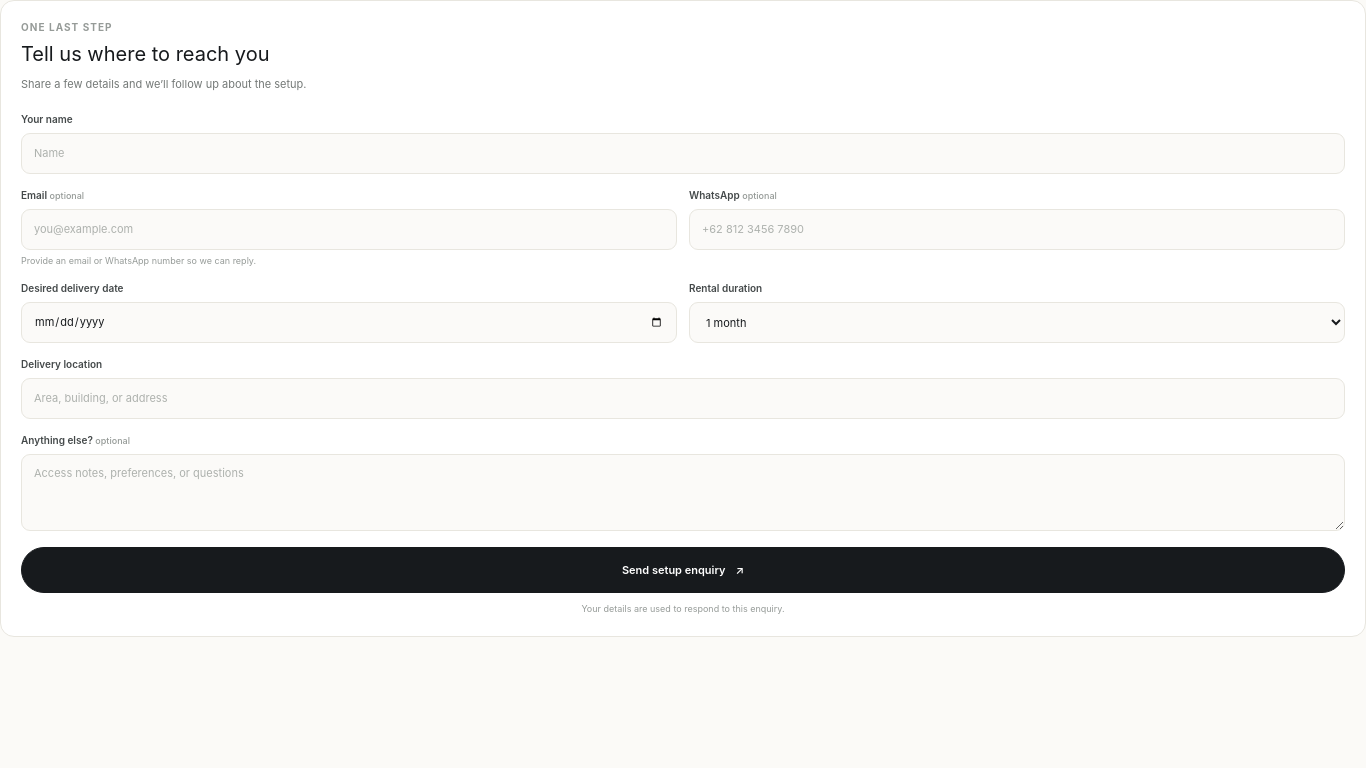
EnquiryForm › requires at least one reply method
Type "Casey Example" into the field labelled "Your name".
click(683, 153); type("Casey Example")  # box [21,132,1345,174]
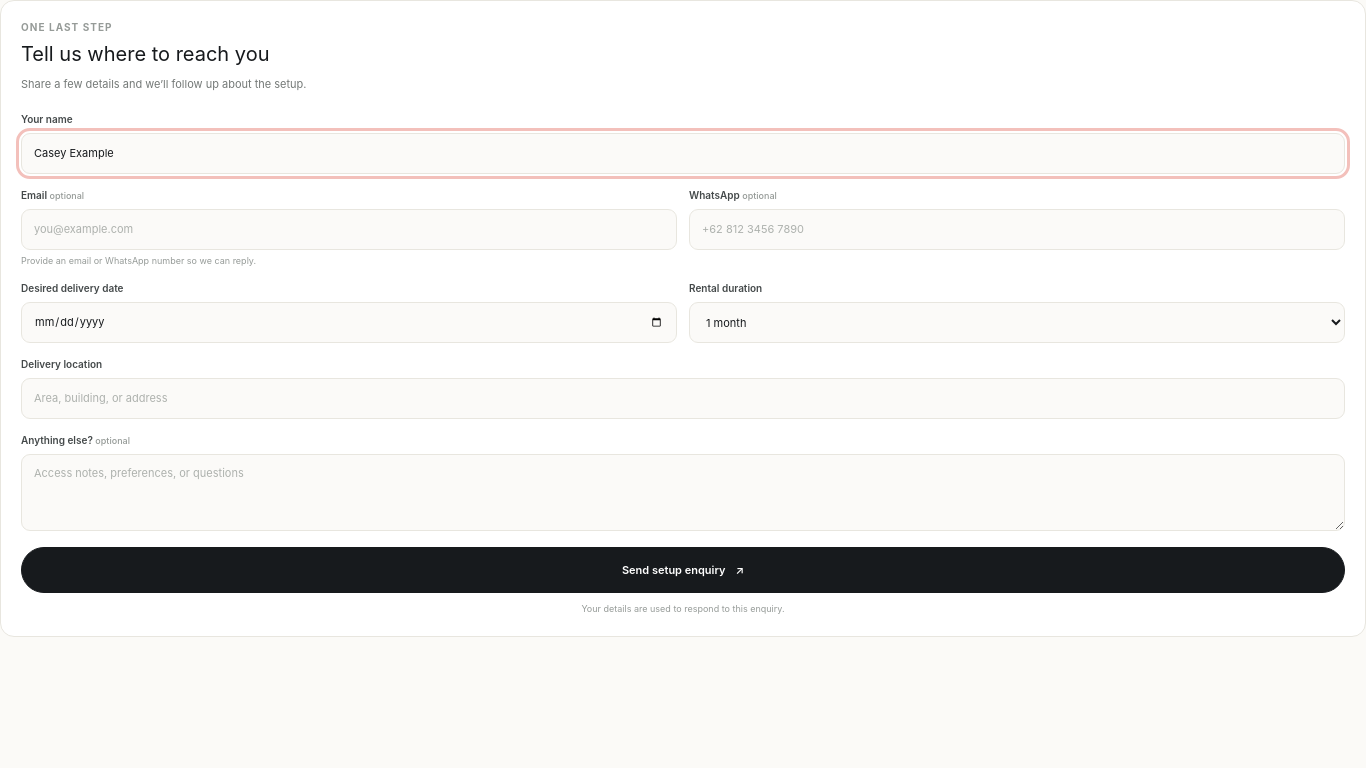
Type "2030-01-10" into the date field labelled "Desired delivery date".
click(349, 322); type("2030-01-10")  # box [21,302,677,343]
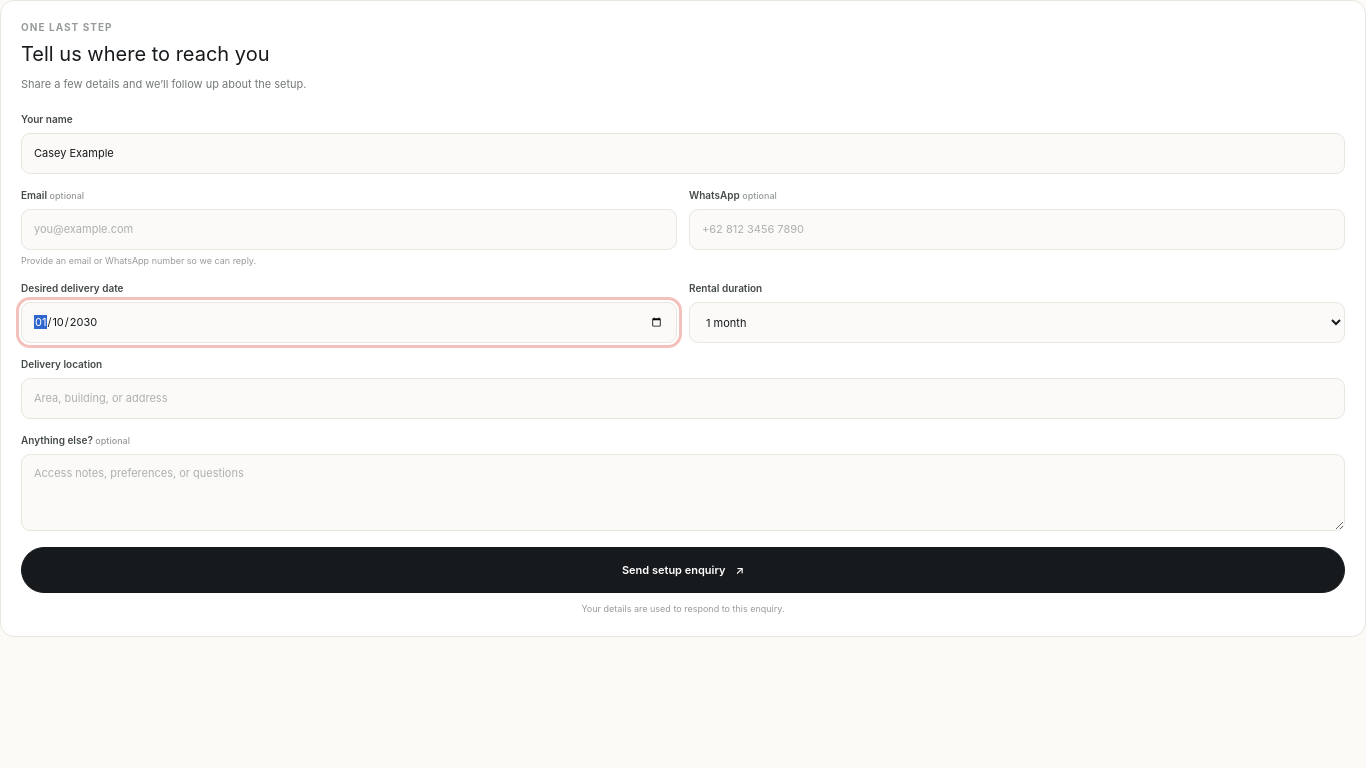
Type "Central district" into the field labelled "Delivery location".
click(683, 398); type("Central district")  # box [21,378,1345,419]
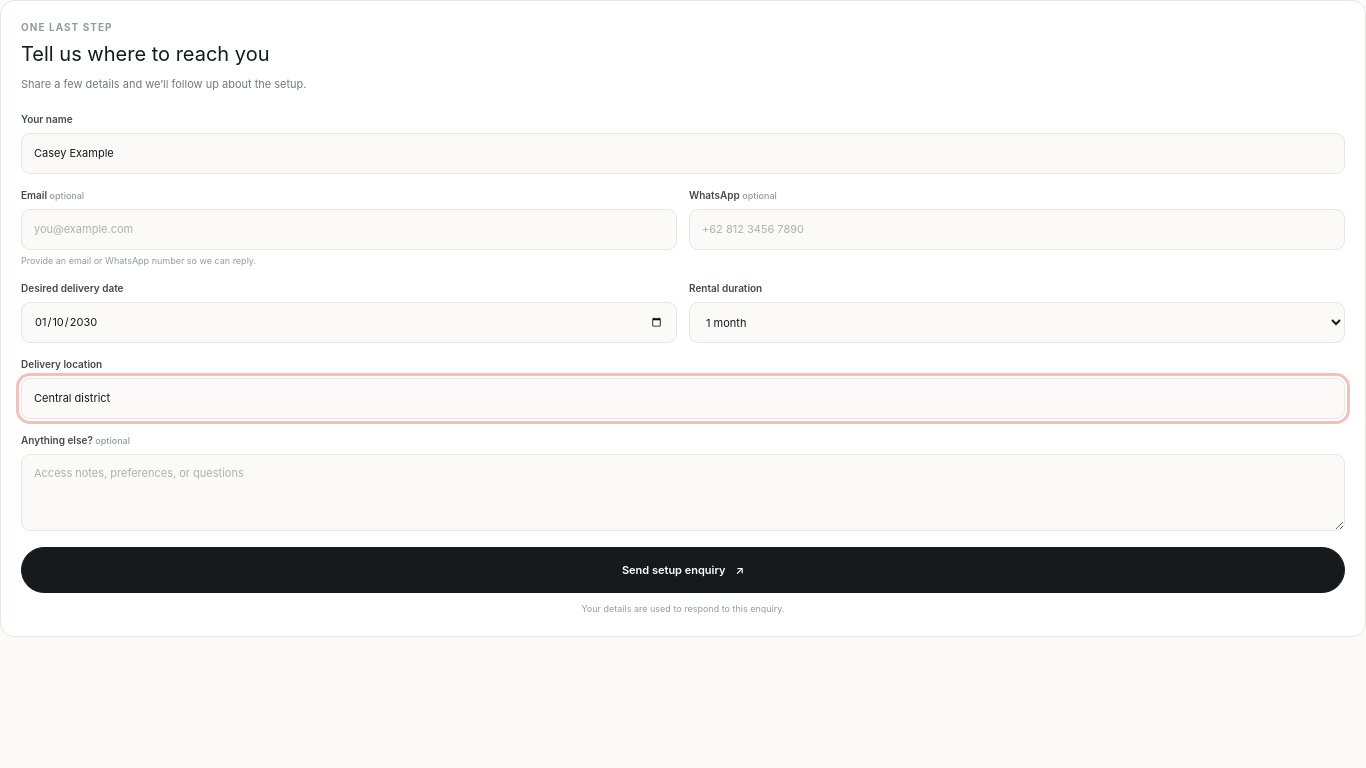
Click the button "Send setup enquiry ↗".
click(683, 570)  # box [21,547,1345,593]
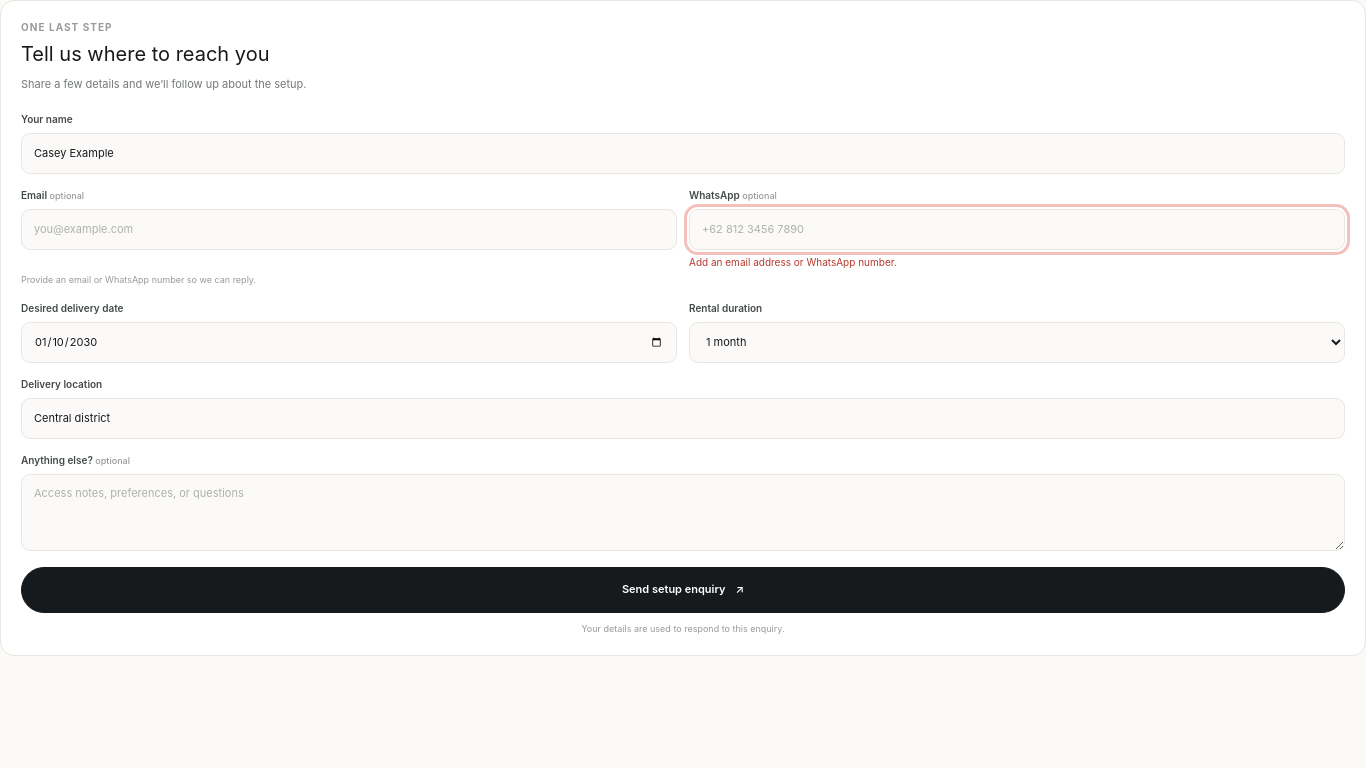
Expected: the text "Add an email address or WhatsApp number." is shown, [689,256,897,268]
